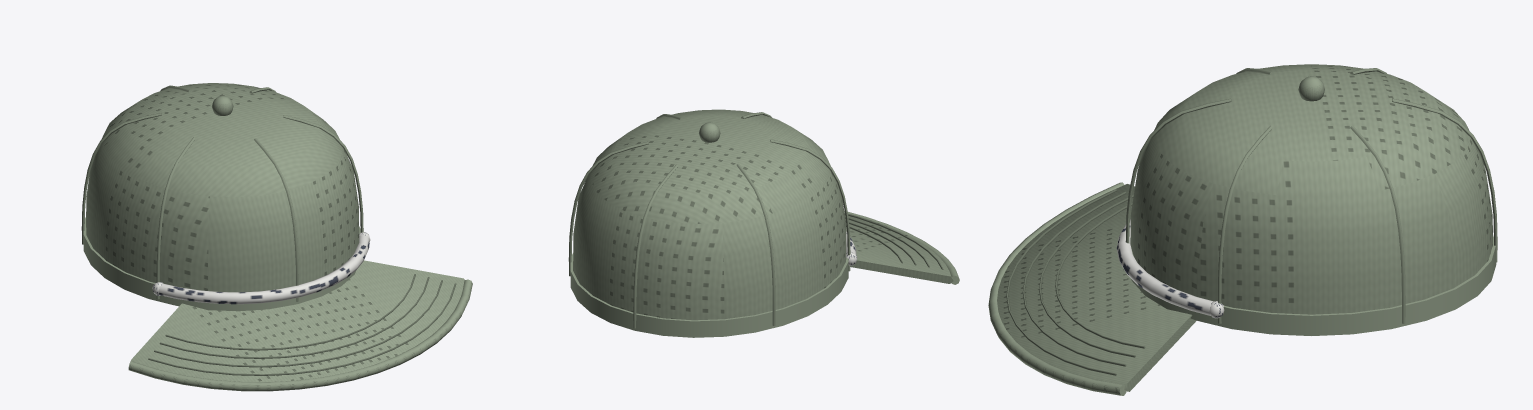
The model's file is pf_hat_performance.glb.
The picture shows the model from 3 angles, left to right: view 1: azimuth 30°, elevation 25°; view 2: azimuth 150°, elevation 25°; view 3: azimuth 270°, elevation 25°; orthographic projection. The views are drawn at different scales.
Visible parts, largest first — view 1: pf_hat_performance_body; view 2: pf_hat_performance_body; view 3: pf_hat_performance_body.
Boxes of the visible parts, x1,y1,x2,y2 form: pf_hat_performance_body: (81, 83, 472, 391); pf_hat_performance_body: (568, 109, 959, 337); pf_hat_performance_body: (988, 64, 1497, 395).
Bounding box in the file's own units: 0.2626 × 0.138 × 0.2845.
5 materials, 2 textured.
